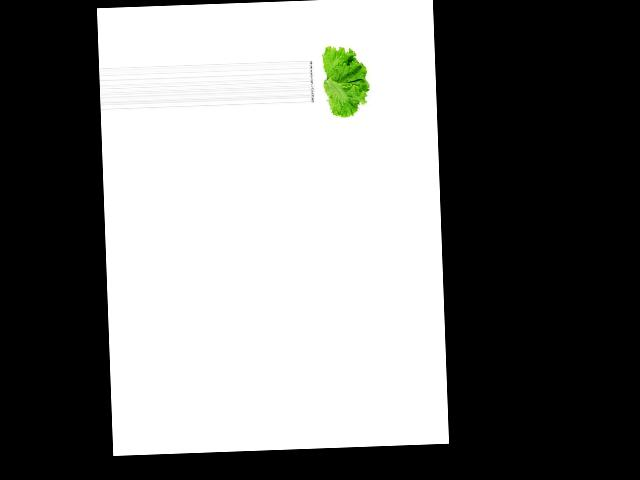lettuce: (312, 44, 371, 120)
